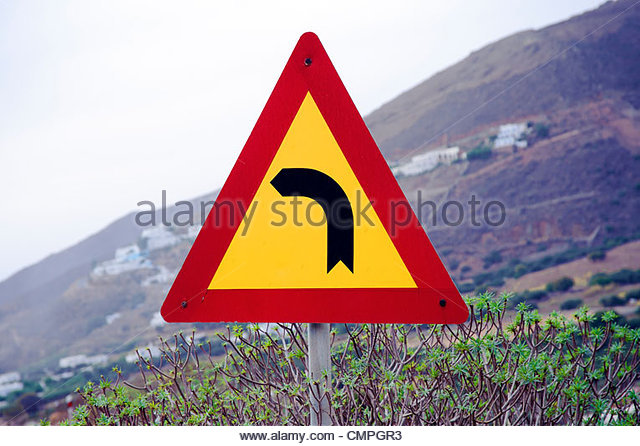Bend_to_left: (154, 29, 475, 331)
